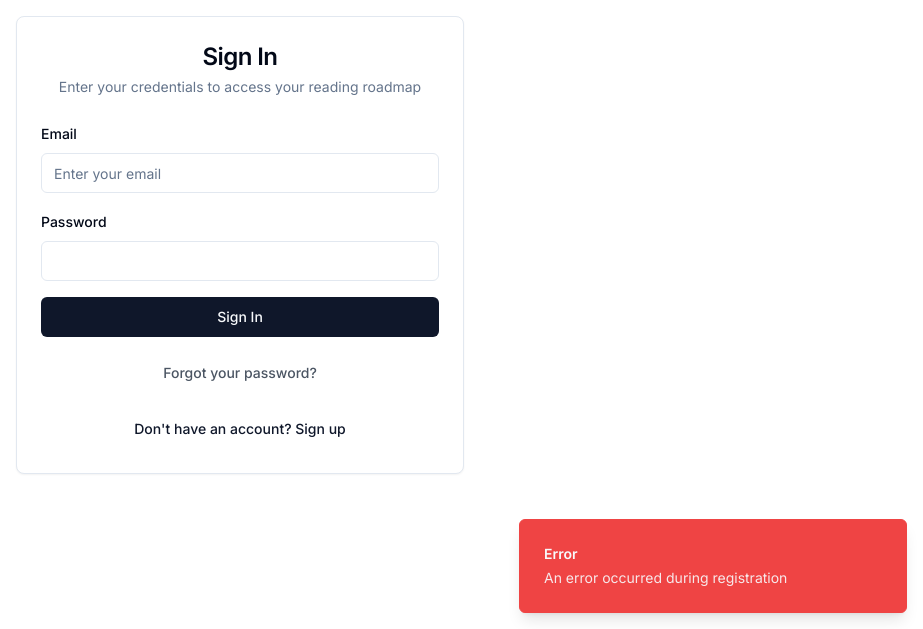
Test case: Complete Authentication Flow › Login Flow › should handle successful login
This screenshot has width=923, height=629.
Step 1. Type "test@example.com" into the field labelled "Email" → (240, 173), box x1=41 y1=153 x2=439 y2=193
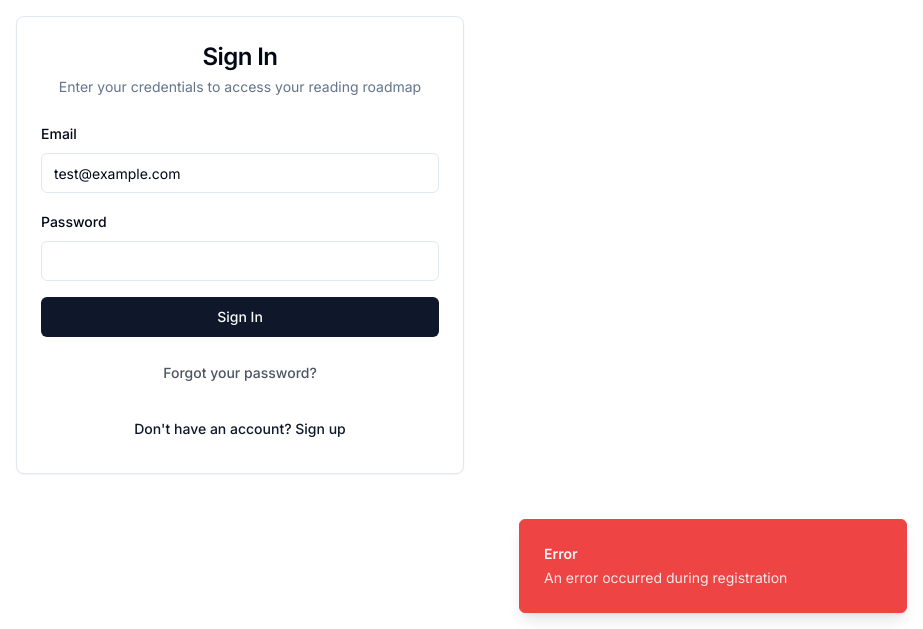
Step 2. Type "password123" into the password field labelled "Password" → (240, 261), box x1=41 y1=241 x2=439 y2=281
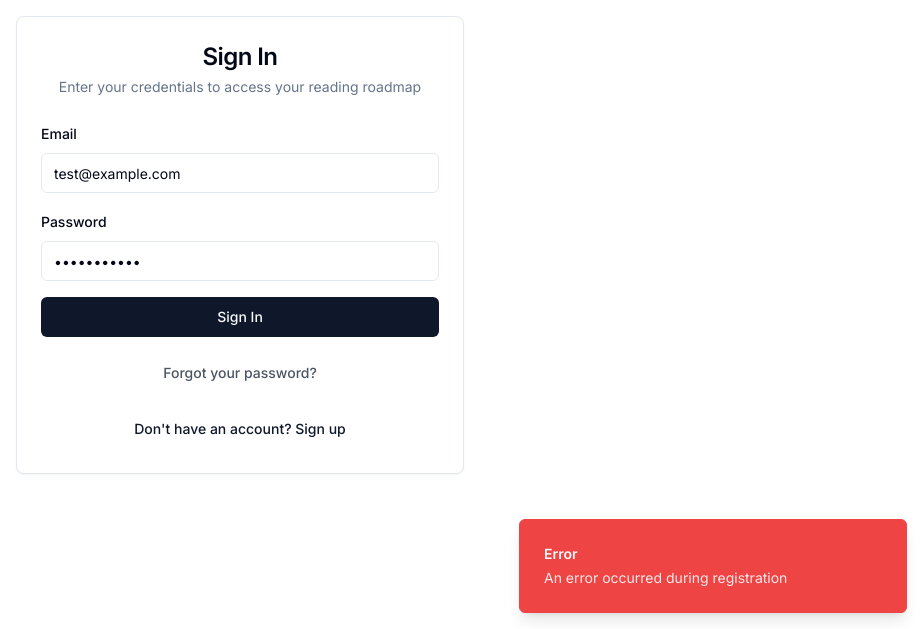
Step 3. Click the button "Sign In" → (240, 317), box x1=41 y1=297 x2=439 y2=337
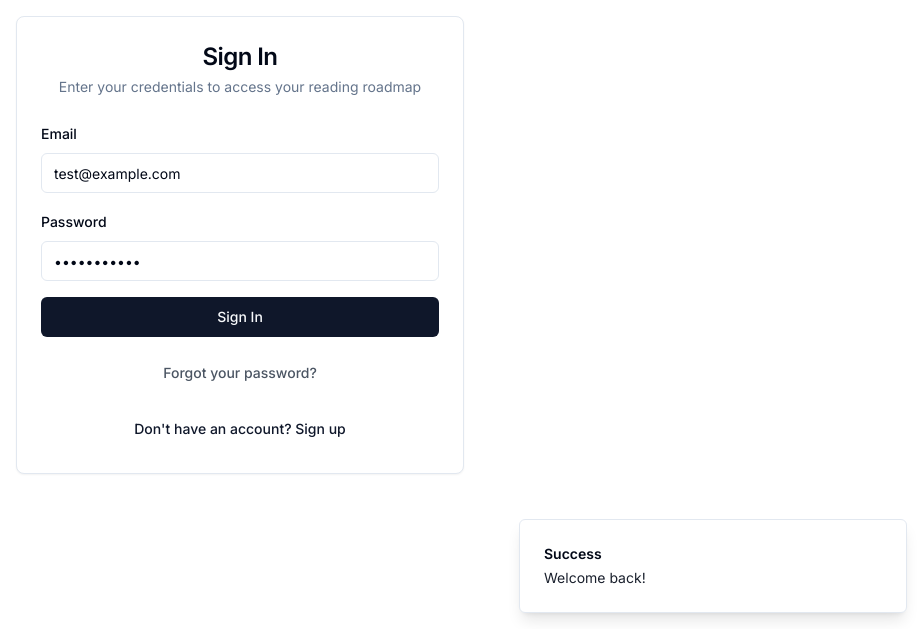
Result: the text "Welcome back!" is shown at x1=544 y1=568 x2=646 y2=588
